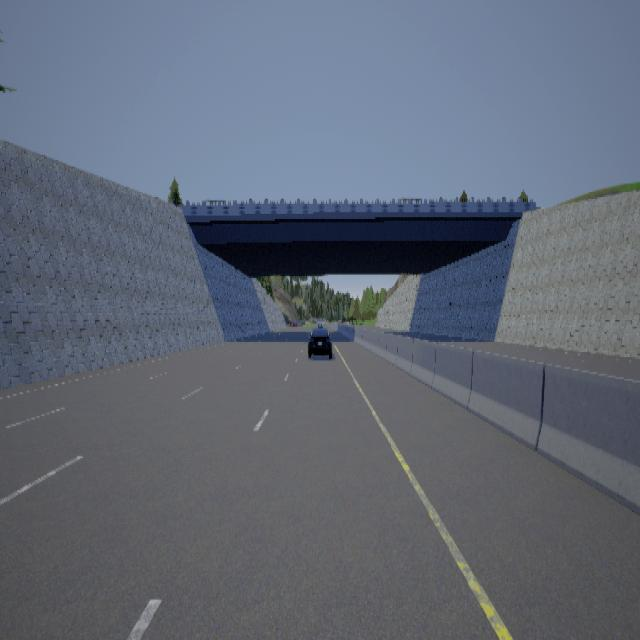vehicle: (309, 322, 333, 357)
